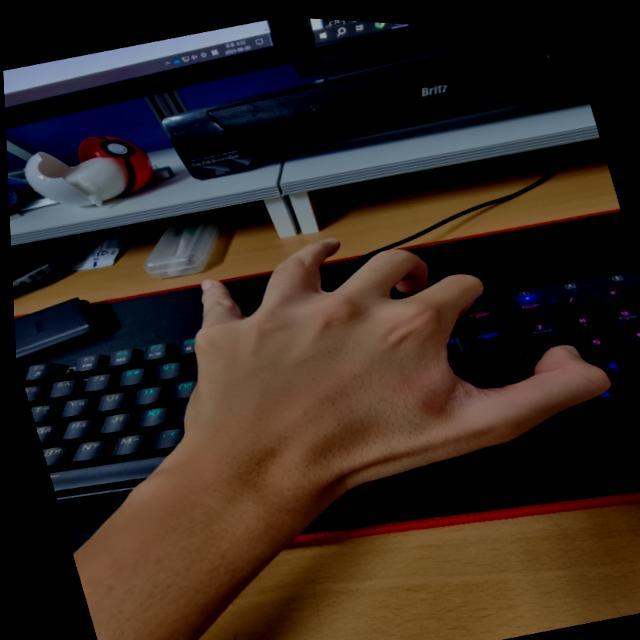keyboard-with-hands: (20, 261, 640, 498)
